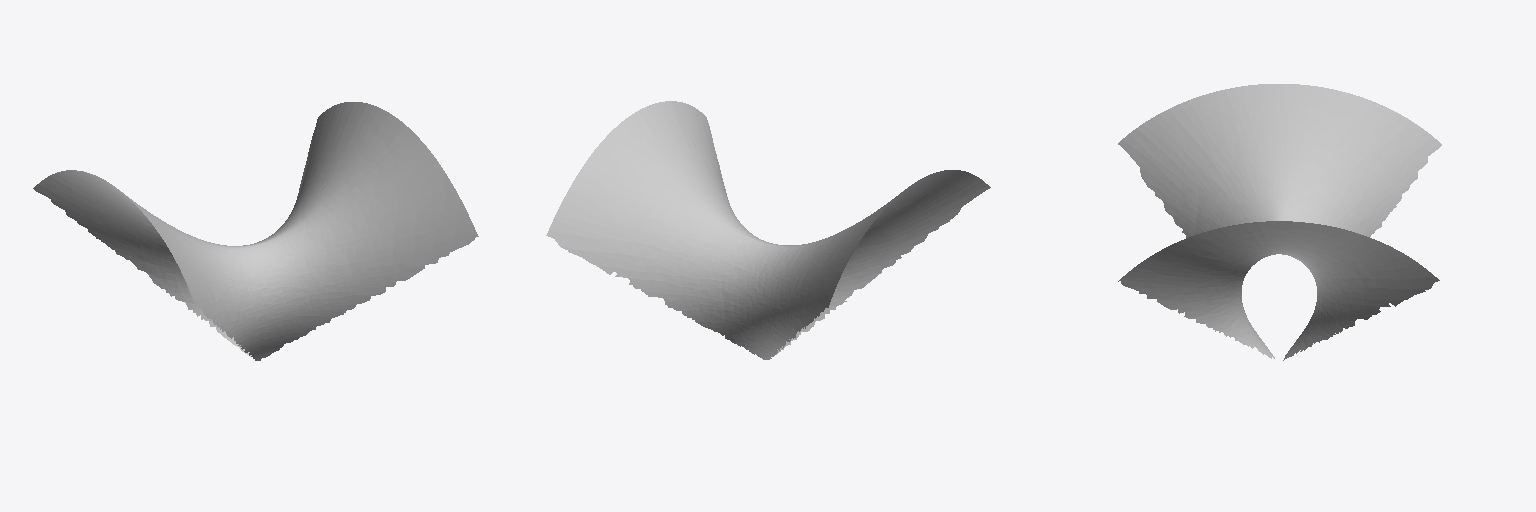
The model's file is smooth_cut_along_multi_face.obj.
3 views of the same model, side by side, from view 1: azimuth 30°, elevation 25°; view 2: azimuth 150°, elevation 25°; view 3: azimuth 270°, elevation 25° (orthographic).
Parts seen in each view (by area): view 1: Icosphere; view 2: Icosphere; view 3: Icosphere.
Boxes of the visible parts, <box> form: Icosphere: <box>33,102,478,360</box>; Icosphere: <box>546,101,990,359</box>; Icosphere: <box>1118,84,1441,360</box>.
Size of the model in its own units: 30 by 20.96 by 29.8.